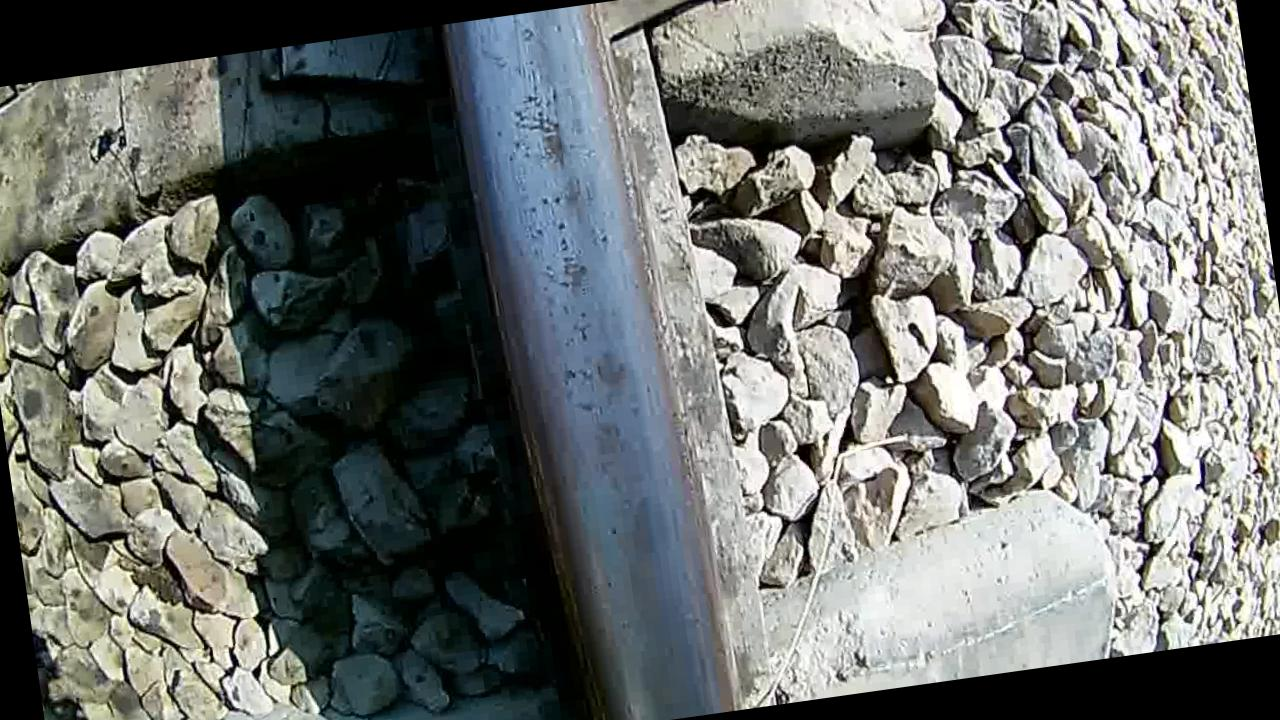crack: (454, 0, 730, 720)
